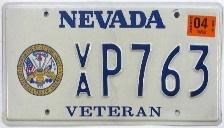3: (187, 43, 211, 99)
6: (159, 43, 183, 98)
7: (130, 42, 153, 99)
P: (100, 42, 123, 98)
